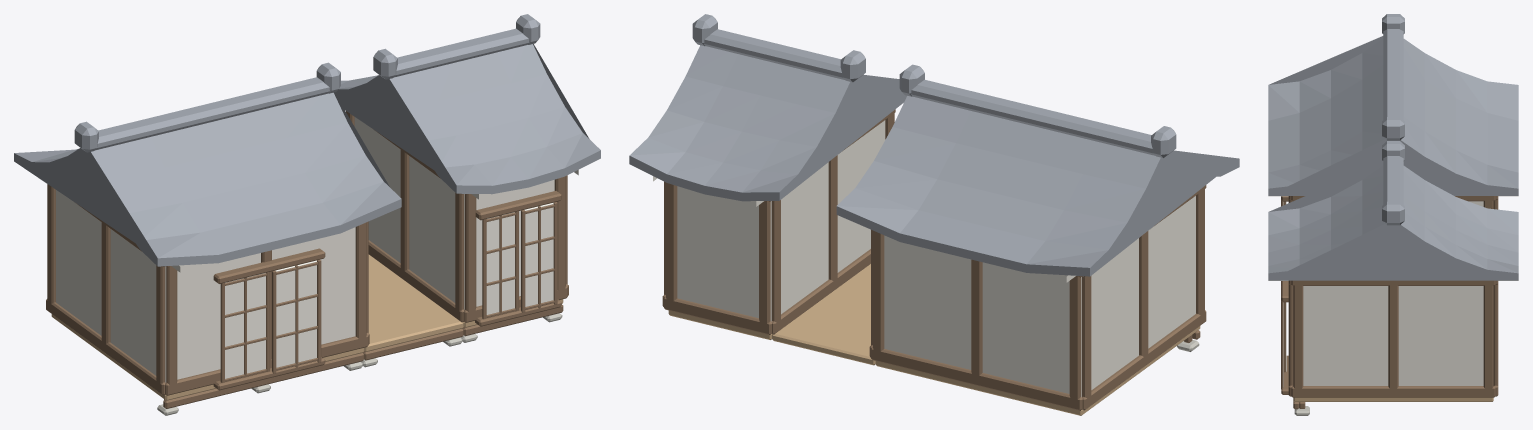
Rendered from townhouse-courtyard.glb.
The picture shows the model from 3 angles, left to right: view 1: azimuth 30°, elevation 25°; view 2: azimuth 150°, elevation 25°; view 3: azimuth 270°, elevation 25°; orthographic projection. The views are drawn at different scales.
Visible parts, largest first — view 1: townhouse-courtyard; view 2: townhouse-courtyard; view 3: townhouse-courtyard.
Boxes of the visible parts, x1,y1,x2,y2 form: townhouse-courtyard: (14,14,600,415); townhouse-courtyard: (629,14,1239,415); townhouse-courtyard: (1268,14,1518,415).
Size of the model in its own units: 9.2 by 4.91 by 5.
